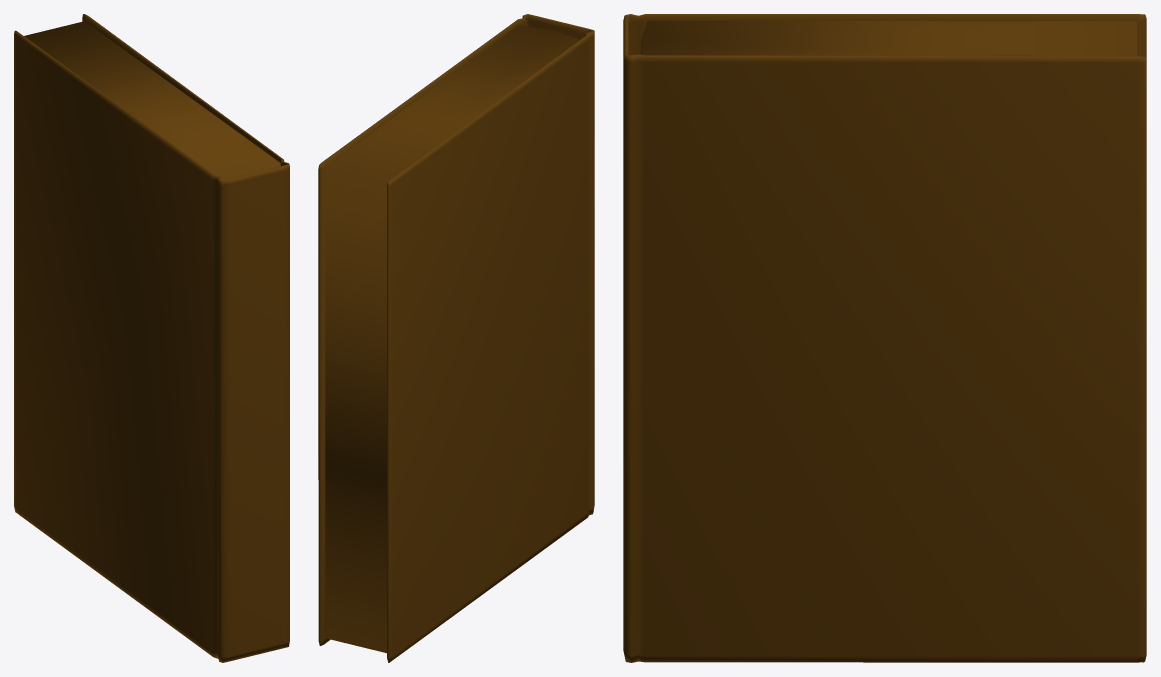
The model's file is Libro.FBX.
3 renders of one model, left to right at view 1: azimuth 30°, elevation 25°; view 2: azimuth 150°, elevation 25°; view 3: azimuth 270°, elevation 25°, orthographic. The views are drawn at different scales.
Visible parts, largest first — view 1: Libro; view 2: Libro; view 3: Libro.
Boxes of the visible parts, x1,y1,x2,y2 form: Libro: (14,14,289,662); Libro: (318,14,594,662); Libro: (623,14,1146,662).
Bounding box in the file's own units: 5.03 × 31.96 × 24.97.
